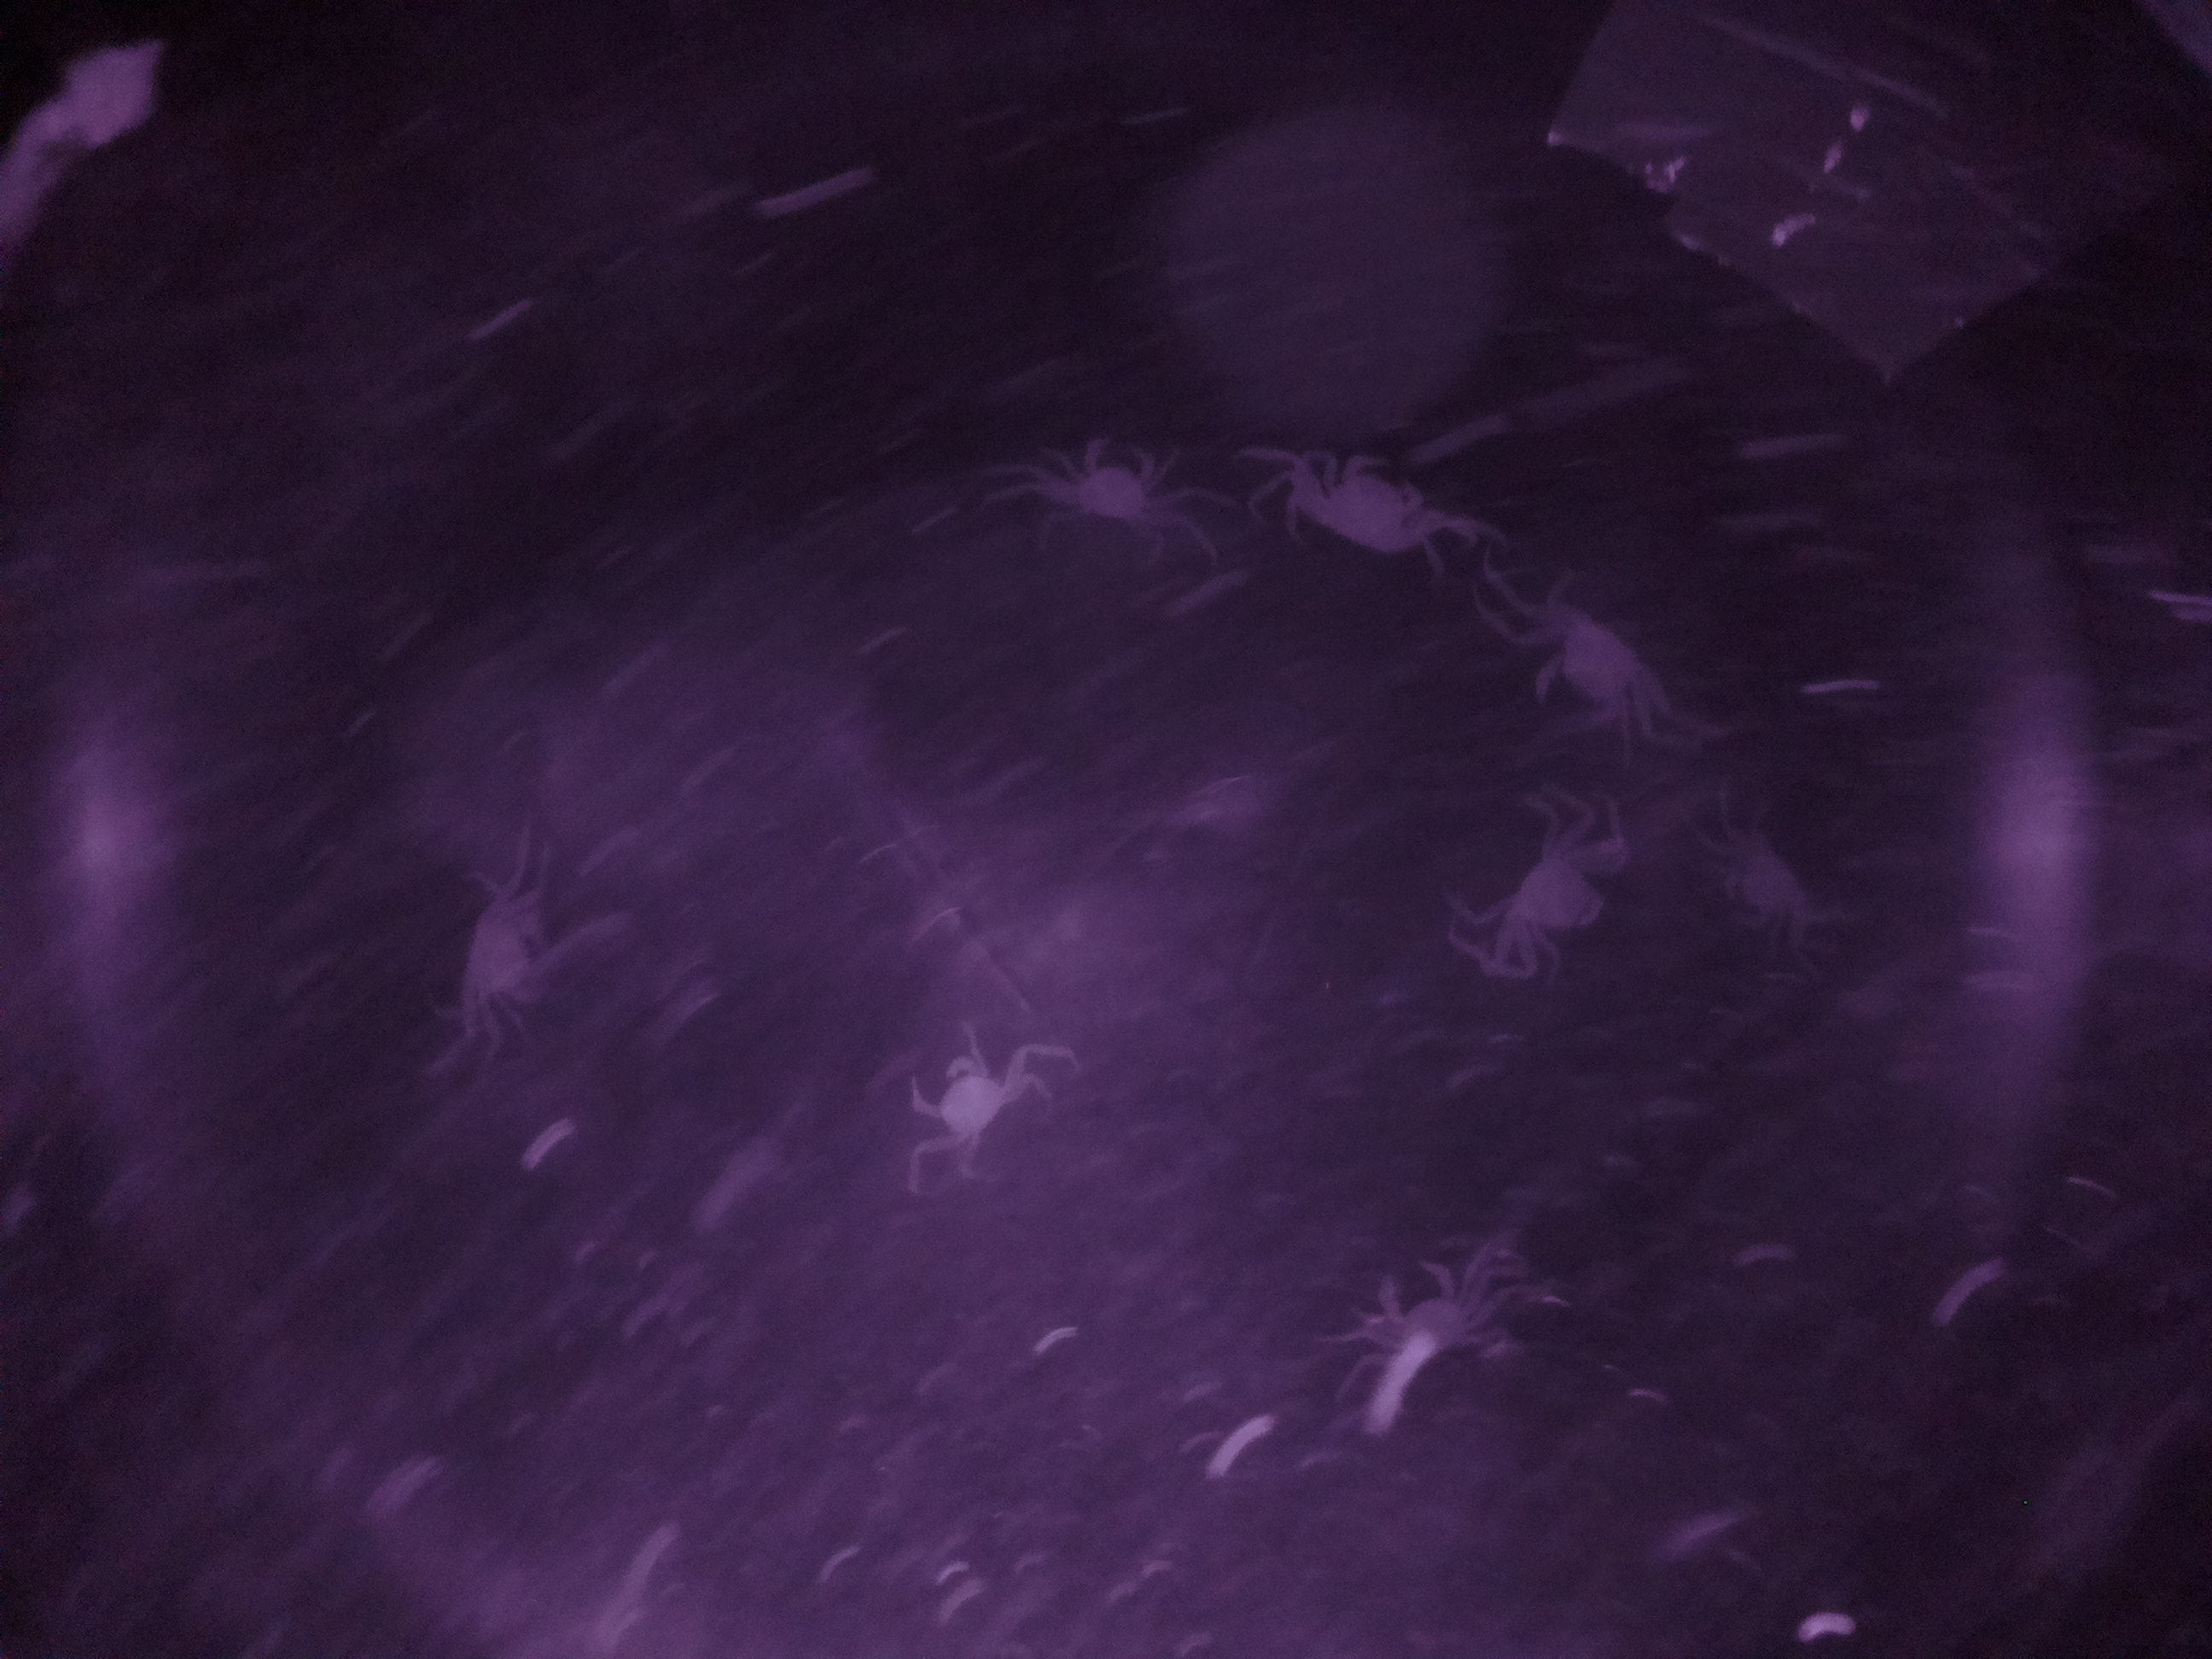Crab: (1503, 586, 1689, 742), (1266, 439, 1446, 589), (890, 1018, 1057, 1178), (1480, 800, 1627, 974)
